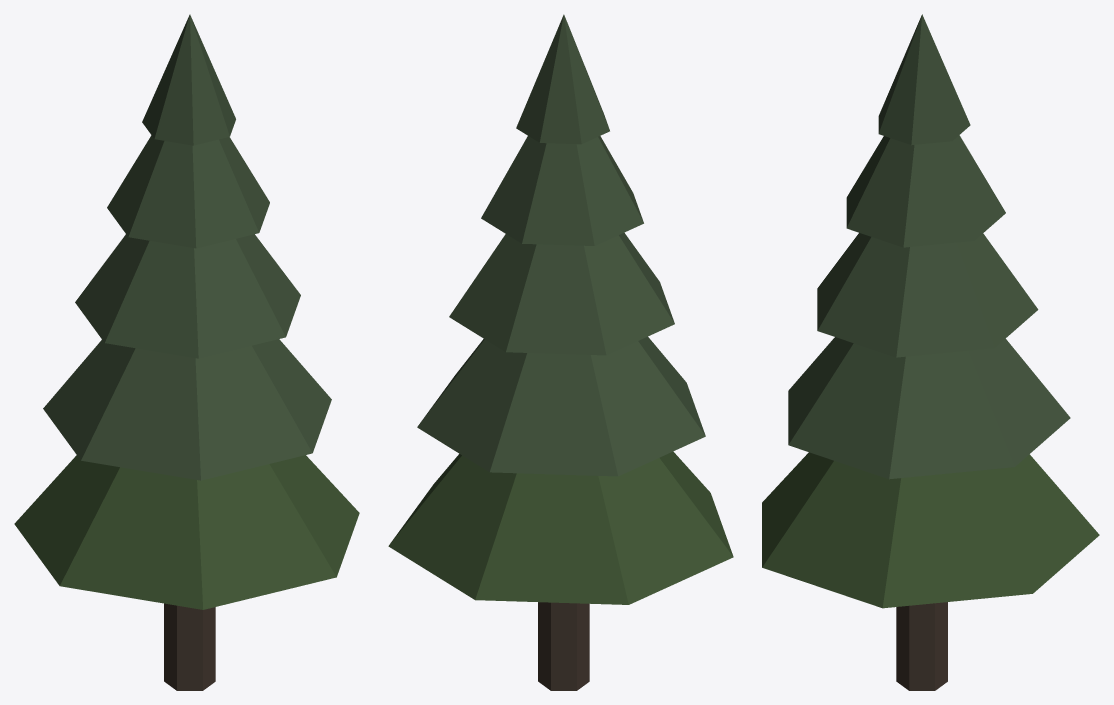
The model's file is forest_pine.glb.
3 renders of one model, left to right at view 1: azimuth 30°, elevation 25°; view 2: azimuth 150°, elevation 25°; view 3: azimuth 270°, elevation 25°, orthographic.
Parts seen in each view (by area): view 1: needled tier, needled tier.001, needled tier.002, needled tier.003, needled tier.004, pine trunk.001; view 2: needled tier, needled tier.001, needled tier.002, needled tier.003, needled tier.004, pine trunk.001; view 3: needled tier, needled tier.001, needled tier.002, needled tier.003, needled tier.004, pine trunk.001.
Boxes of the visible parts, x1=… form: needled tier: x1=14, y1=455, x2=359, y2=609; needled tier.001: x1=43, y1=339, x2=331, y2=480; needled tier.002: x1=75, y1=234, x2=300, y2=358; needled tier.003: x1=107, y1=135, x2=269, y2=248; needled tier.004: x1=142, y1=14, x2=235, y2=145; pine trunk.001: x1=164, y1=603, x2=215, y2=690; needled tier: x1=388, y1=451, x2=733, y2=604; needled tier.001: x1=417, y1=336, x2=705, y2=476; needled tier.002: x1=449, y1=232, x2=674, y2=355; needled tier.003: x1=481, y1=136, x2=643, y2=245; needled tier.004: x1=516, y1=14, x2=609, y2=144; pine trunk.001: x1=538, y1=602, x2=589, y2=690; needled tier: x1=762, y1=452, x2=1099, y2=608; needled tier.001: x1=788, y1=337, x2=1070, y2=479; needled tier.002: x1=817, y1=233, x2=1038, y2=357; needled tier.003: x1=846, y1=135, x2=1005, y2=247; needled tier.004: x1=878, y1=14, x2=970, y2=145; pine trunk.001: x1=896, y1=602, x2=947, y2=690.
Size of the model in its own units: 1.07 by 2.28 by 1.05.
